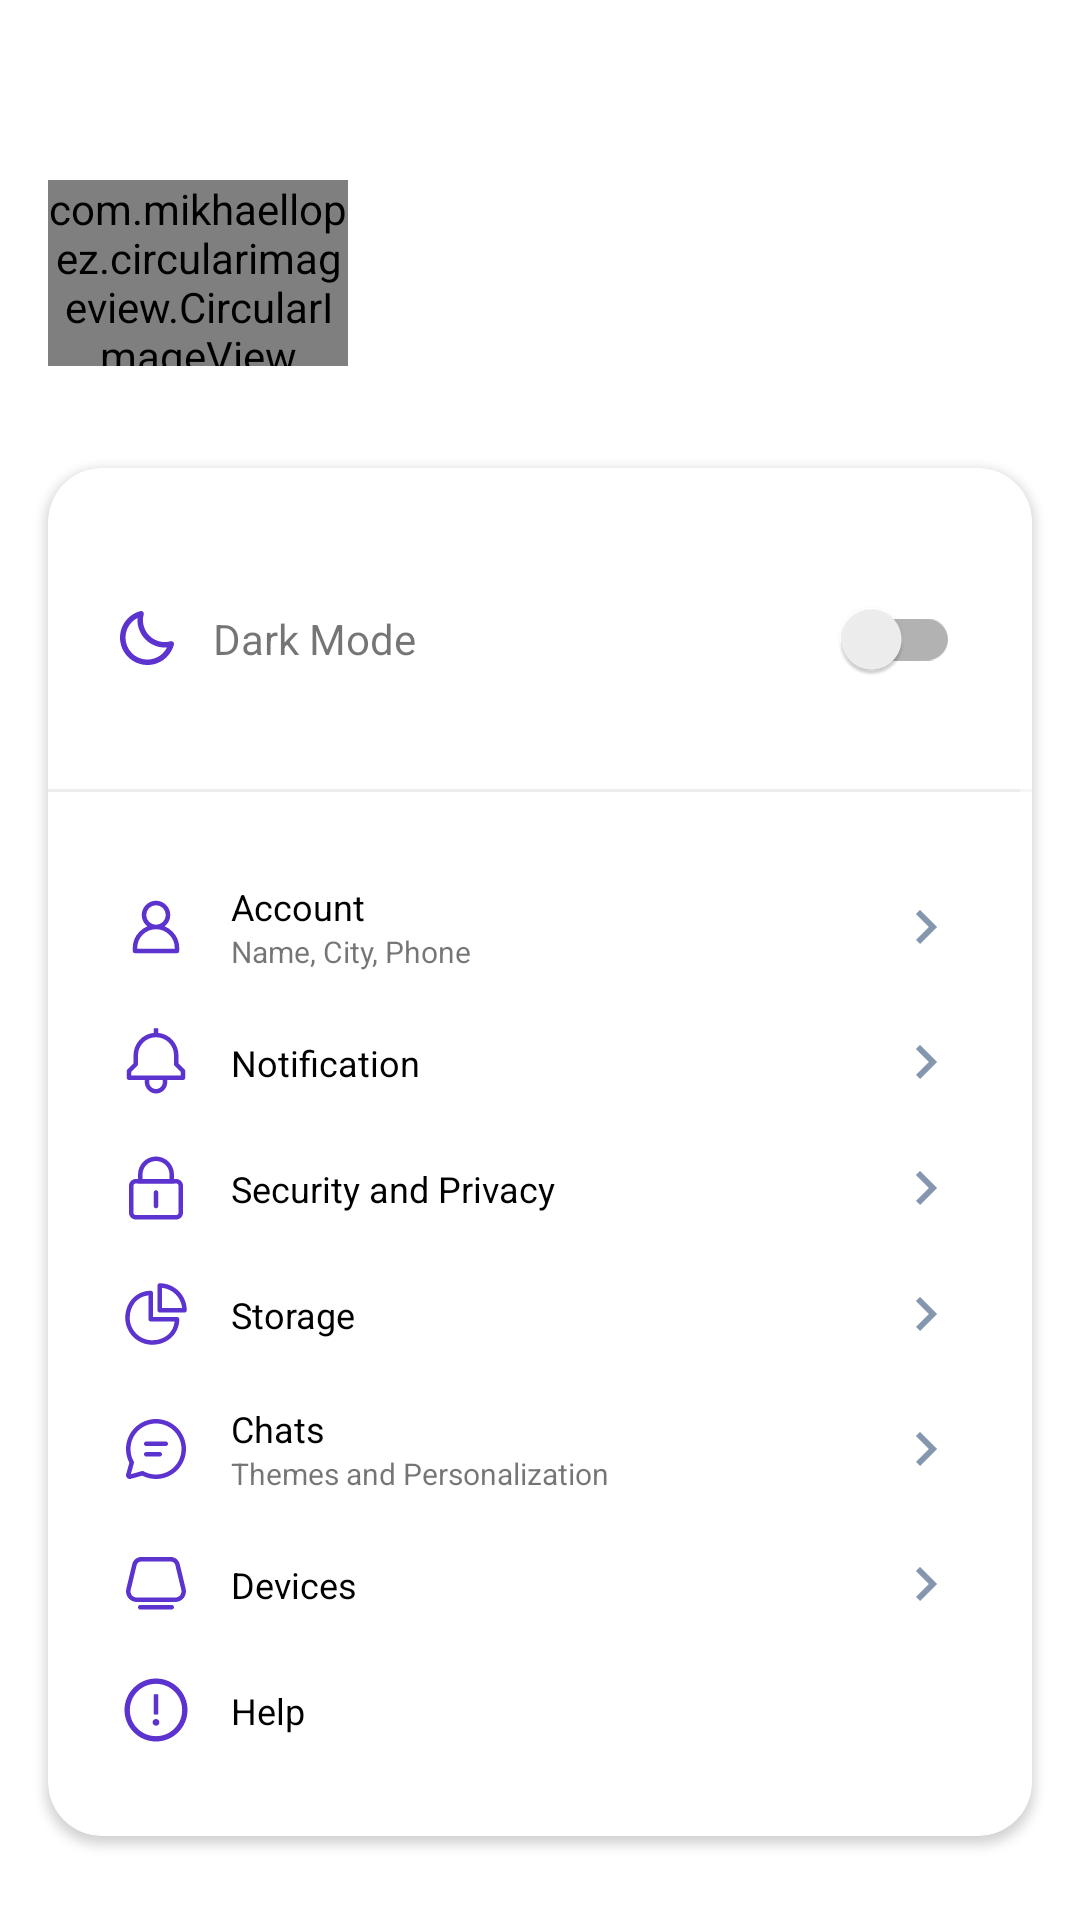

Screen size 1080*1920. Icon name, then its center in pixels as (x,y):
lock: (156,1188)
moon: (147,638)
user: (156,927)
warning: (156,1710)
